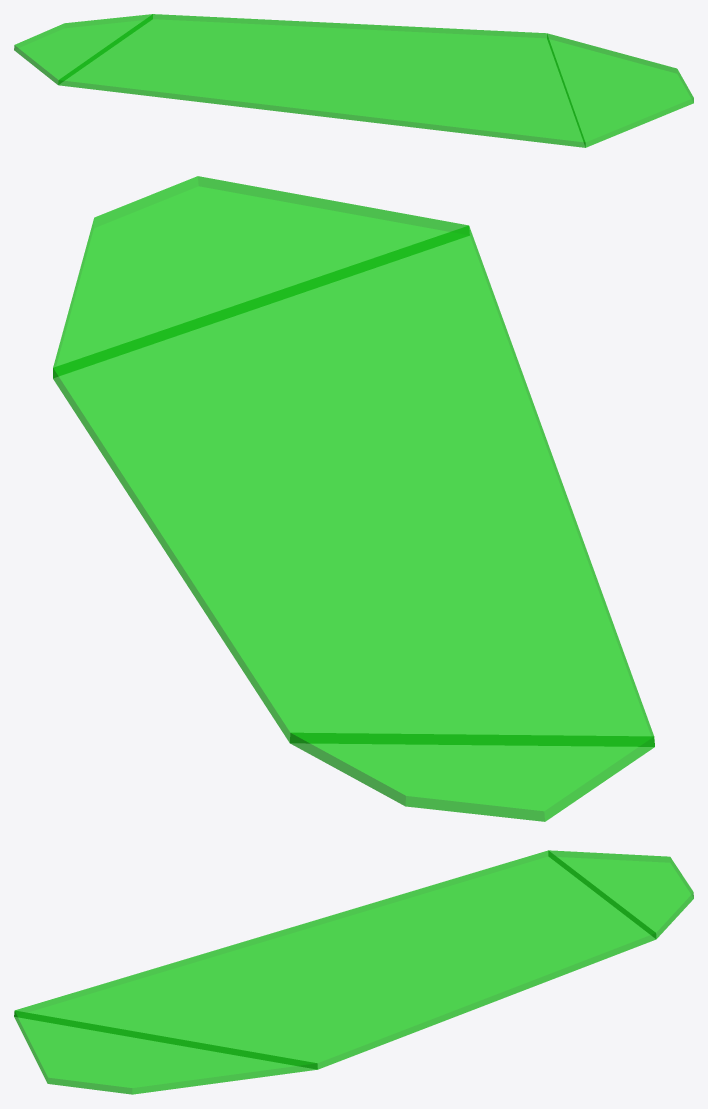
Rendered from parche_2.fbx.
3 views of the same model, one above another, from view 1: azimuth 30°, elevation 25°; view 2: azimuth 150°, elevation 25°; view 3: azimuth 270°, elevation 25° (orthographic). The views are drawn at different scales.
Visible parts, largest first — view 1: Colliders_3483, Colliders_178, Colliders_258; view 2: Colliders_3483, Colliders_178, Colliders_258; view 3: Colliders_3483, Colliders_178, Colliders_258.
Part boxes in pixels (left/top/right/bottom): Colliders_3483: left=58, top=14, right=585, bottom=147; Colliders_178: left=547, top=33, right=693, bottom=147; Colliders_258: left=14, top=14, right=152, bottom=84; Colliders_3483: left=53, top=225, right=654, bottom=746; Colliders_178: left=53, top=176, right=469, bottom=377; Colliders_258: left=290, top=732, right=654, bottom=821; Colliders_3483: left=14, top=850, right=656, bottom=1069; Colliders_178: left=14, top=1010, right=317, bottom=1094; Colliders_258: left=548, top=850, right=693, bottom=938.
Bounding box in the file's own units: 4385 × 312 × 4671.
